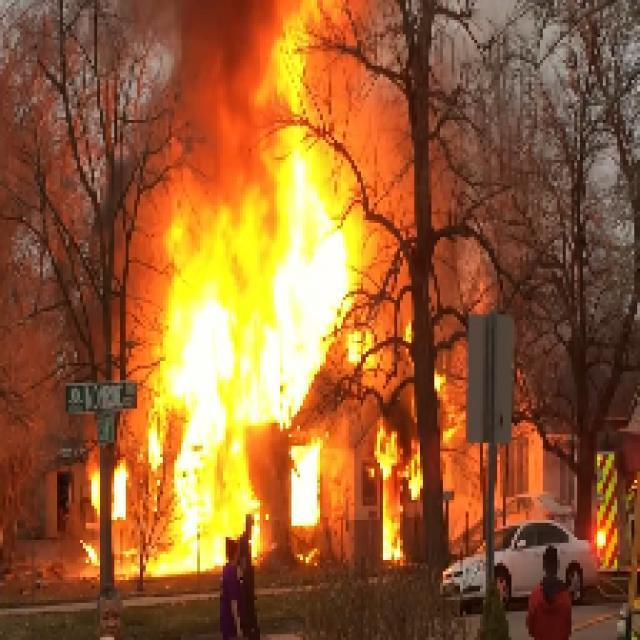Fire: (138, 26, 348, 572)
